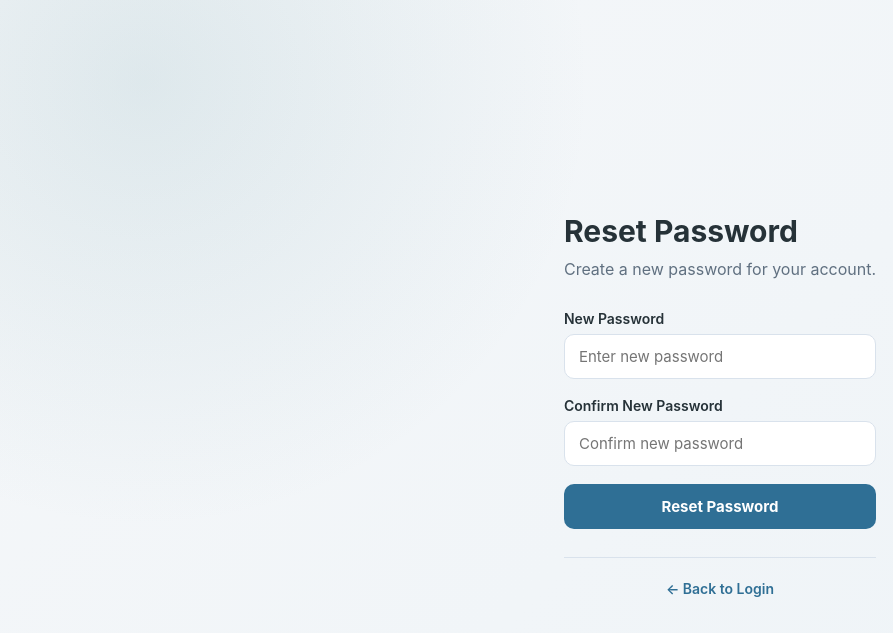
Test: authentication recovery pages › reset password shows success only after backend accepts the token
The width and height of the screenshot is (893, 633).
Type "synthetic-test-password" into the password field labelled "New Password" at (720, 357), box 564,334 -> 876,379
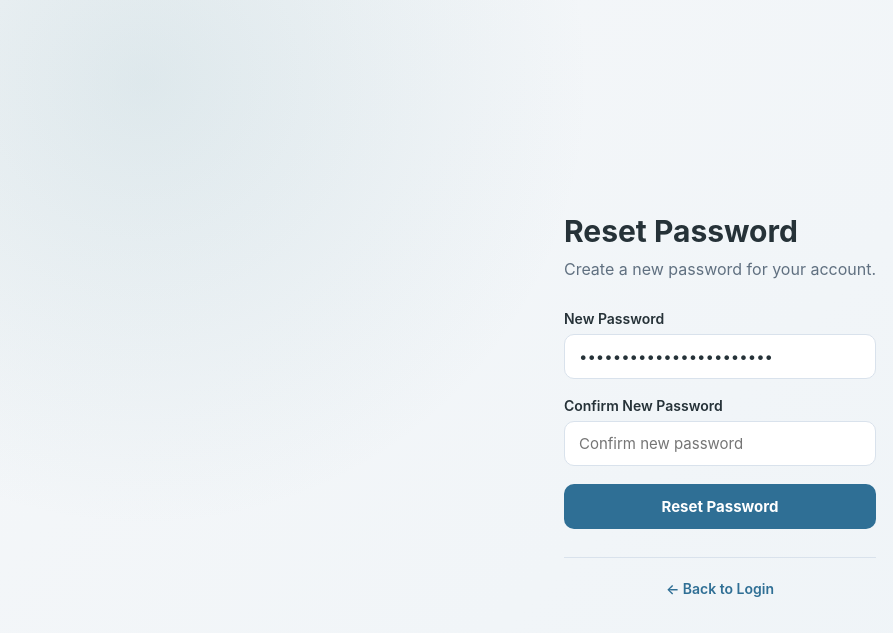
Type "synthetic-test-password" into the password field labelled "Confirm New Password" at (720, 444), box 564,421 -> 876,466
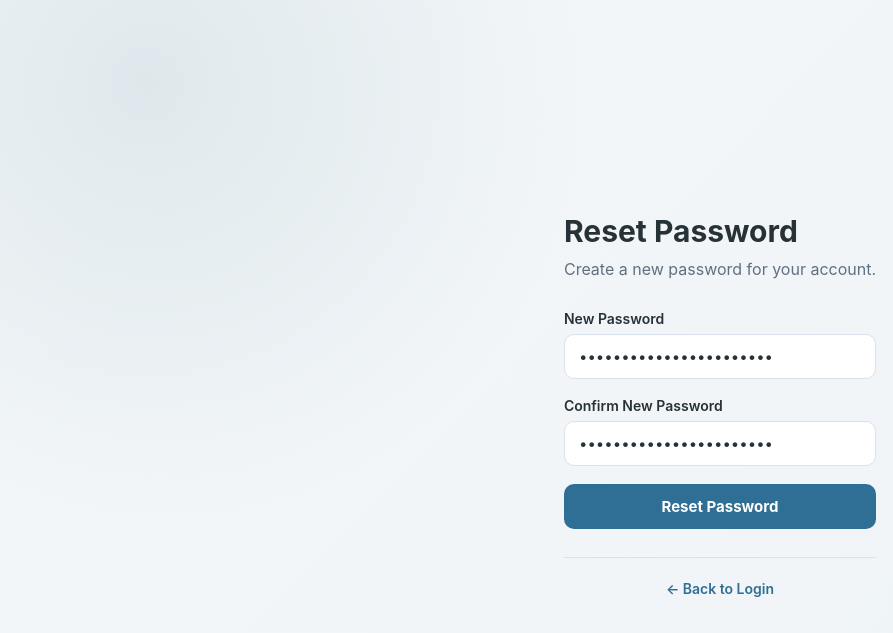
Click the button "Reset Password" at (720, 507), box 564,484 -> 876,529
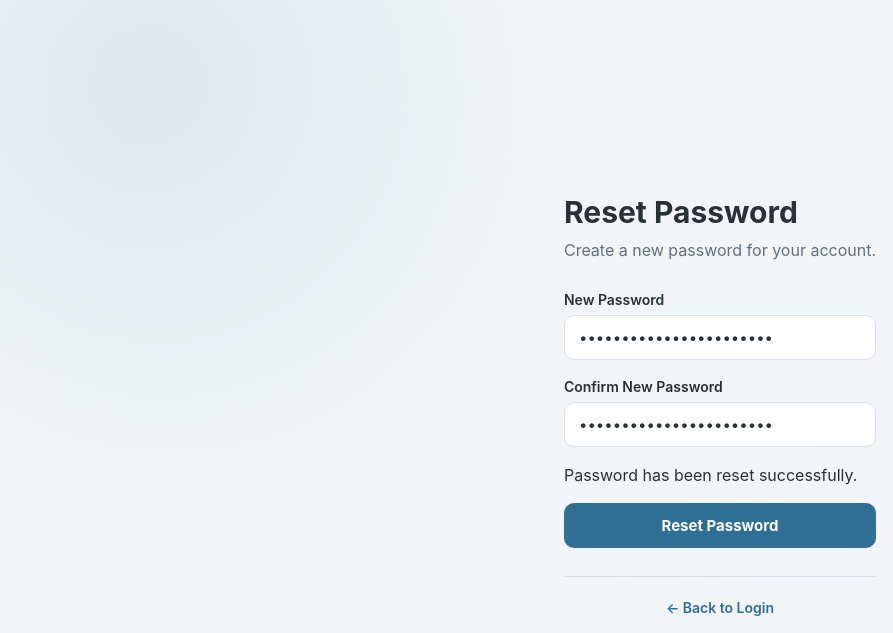
Now the text "Password has been reset successfully." is shown, box 564,465 -> 876,485
